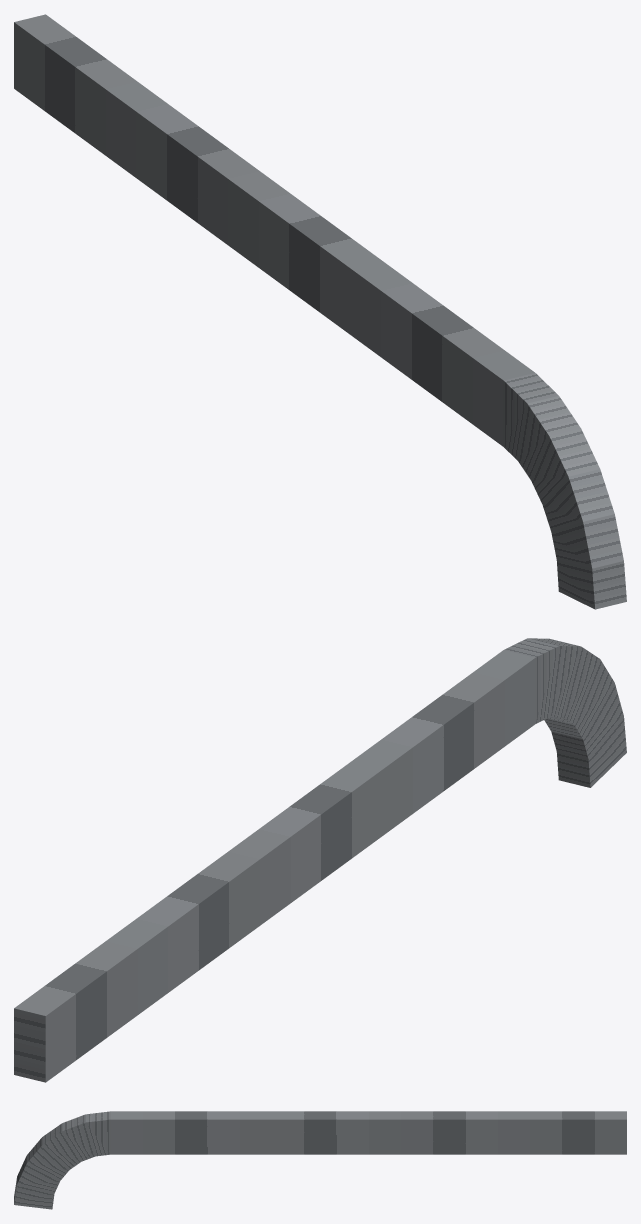
The model's file is sectional_track_cw_2.obj.
3 views of the same model, one above another, from view 1: azimuth 30°, elevation 25°; view 2: azimuth 150°, elevation 25°; view 3: azimuth 270°, elevation 25° (orthographic). The views are drawn at different scales.
Visible parts, largest first — view 1: track; view 2: track; view 3: track.
Part boxes in pixels (left/top/right/bottom): track: left=14, top=14, right=626, bottom=609; track: left=14, top=638, right=626, bottom=1082; track: left=14, top=1111, right=626, bottom=1209.
Size of the model in its own units: 0.0938 by 0.481 by 2.97.
